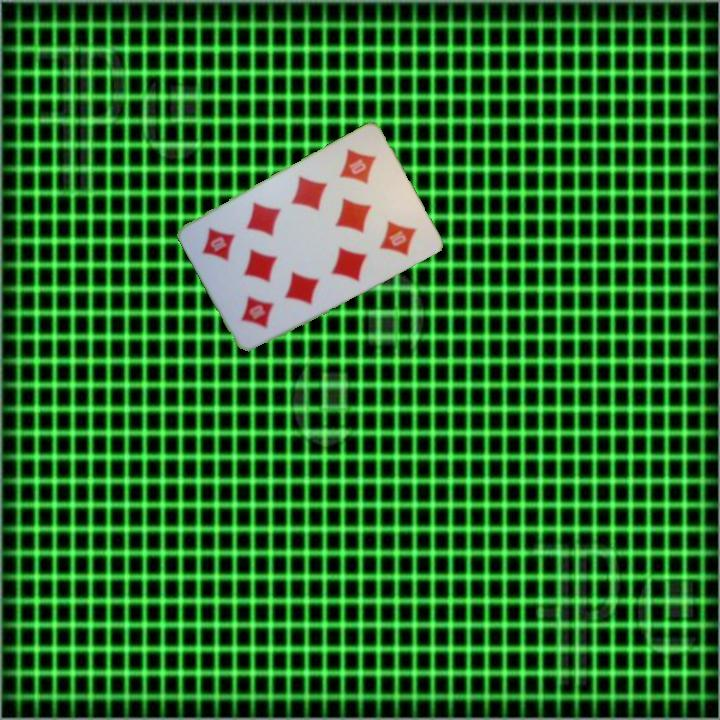d_10.png: (322, 132, 403, 217), (216, 260, 297, 344)
